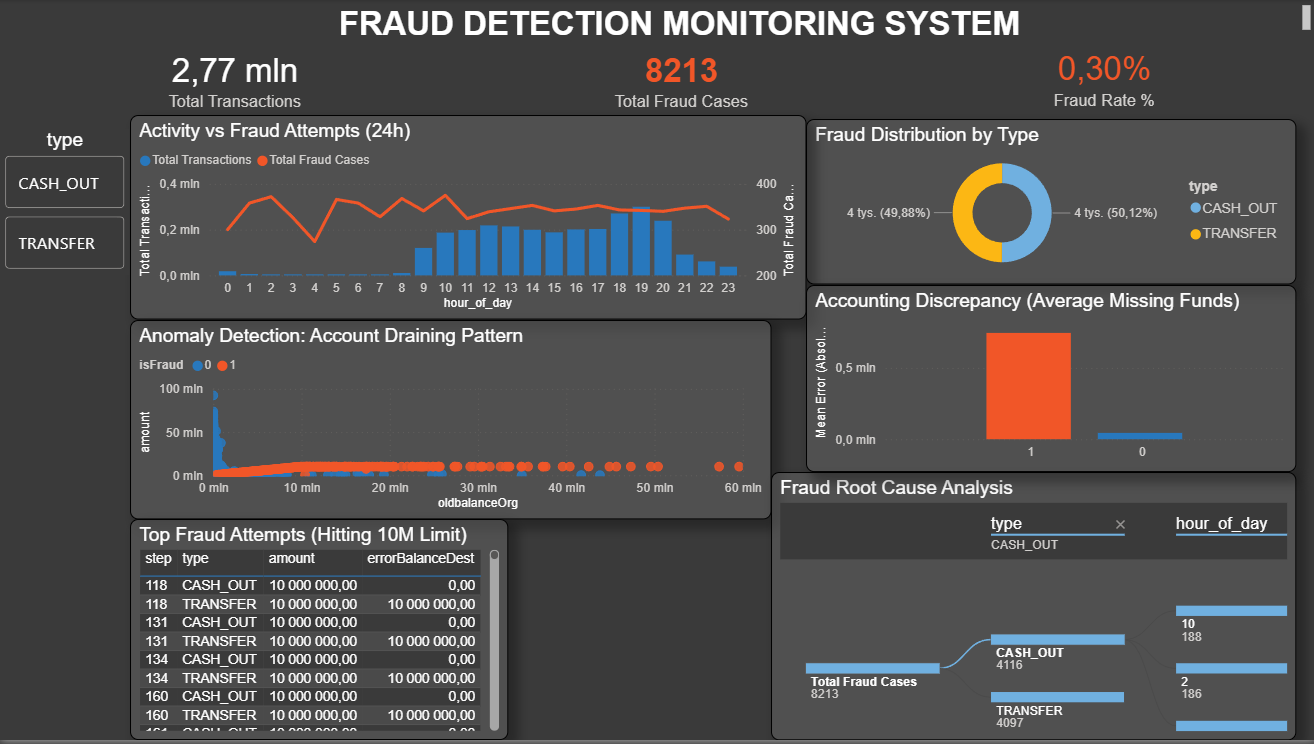

The dashboard page shown, as its layout file describes it:
{"tool":"powerbi","page":{"name":"Strona 1","canvas":[1280,720],"ordinal":0},"visuals":[{"type":"textbox","box":[9.7,0,1270.3,39.9],"z":0},{"type":"card","fields":{"Values":["Zapytanie1.Total Transactions"]},"box":[0,40,457,72],"z":1000},{"type":"card","fields":{"Values":["Zapytanie1.Total Fraud Cases"]},"box":[457.1,39.9,411.4,72],"z":2000},{"type":"card","fields":{"Values":["Zapytanie1.Fraud Rate %"]},"box":[868.6,37,411.4,74.9],"z":3000},{"type":"donutChart","title":"Fraud Distribution by Type","fields":{"Category":["Zapytanie1.type"],"Y":["Zapytanie1.Total Fraud Cases"]},"box":[784,115.7,476.6,161.5],"z":4000},{"type":"lineClusteredColumnComboChart","title":"Activity vs Fraud Attempts (24h)","fields":{"Category":["Zapytanie1.hour_of_day"],"Y2":["Zapytanie1.Total Fraud Cases"],"Y":["Zapytanie1.Total Transactions"]},"box":[126,112,658,199],"z":5000},{"type":"advancedSlicerVisual","fields":{"Values":["Zapytanie1.type"]},"box":[0,125.5,126.4,142],"z":6000},{"type":"scatterChart","title":"Anomaly Detection: Account Draining Pattern","fields":{"X":["Zapytanie1.oldbalanceOrg"],"Y":["Zapytanie1.amount"],"Series":["Zapytanie1.isFraud"]},"box":[126,311,624,194],"z":7000},{"type":"decompositionTreeVisual","title":"Fraud Root Cause Analysis","fields":{"Analyze":["Zapytanie1.Total Fraud Cases"],"ExplainBy":["Zapytanie1.type","Zapytanie1.hour_of_day"]},"box":[750,459,511,261],"z":8000},{"type":"columnChart","title":"Accounting Discrepancy (Average Missing Funds)","fields":{"Category":["Zapytanie1.isFraud"],"Y":["Zapytanie1.Sredni Blad (Absolute)"]},"box":[784,277,477,182],"z":9000},{"type":"tableEx","title":"Top Fraud Attempts (Hitting 10M Limit)","fields":{"Values":["Zapytanie1.step","Zapytanie1.type","Zapytanie1.amount","Zapytanie1.errorBalanceDest"]},"box":[126,505,368,215],"z":10000}]}

Visuals, with their boxes in screenshot pixels (x1, y1, x2, y2), scaled from the page's 1280x720 canvas onto the 1314x744 screenshot:
textbox: BBox(10, 0, 1313, 41)
card - Zapytanie1.Total Transactions: BBox(0, 41, 469, 116)
card - Zapytanie1.Total Fraud Cases: BBox(469, 41, 892, 116)
card - Zapytanie1.Fraud Rate %: BBox(892, 38, 1313, 116)
"Fraud Distribution by Type" donutChart: BBox(805, 120, 1294, 286)
"Activity vs Fraud Attempts (24h)" lineClusteredColumnComboChart: BBox(129, 116, 805, 321)
advancedSlicerVisual - Zapytanie1.type: BBox(0, 130, 130, 276)
"Anomaly Detection: Account Draining Pattern" scatterChart: BBox(129, 321, 770, 522)
"Fraud Root Cause Analysis" decompositionTreeVisual: BBox(770, 474, 1294, 743)
"Accounting Discrepancy (Average Missing Funds)" columnChart: BBox(805, 286, 1294, 474)
"Top Fraud Attempts (Hitting 10M Limit)" tableEx: BBox(129, 522, 507, 743)
